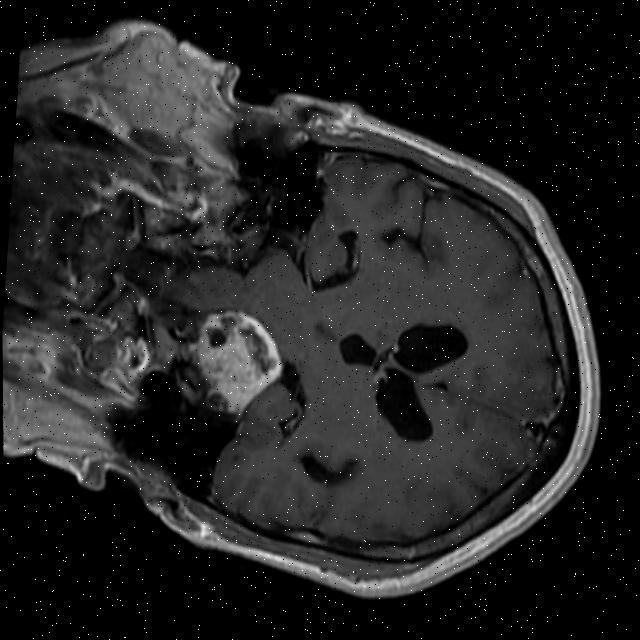Meningioma: (190, 304, 288, 422)
